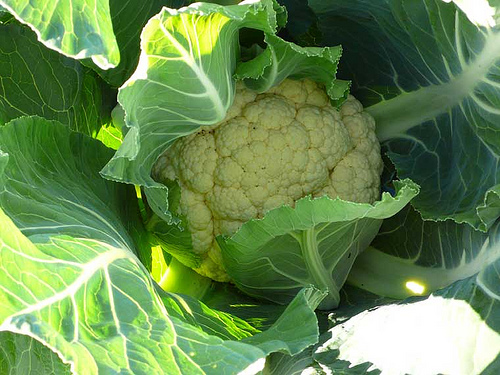cauliflower: (153, 80, 383, 283)
